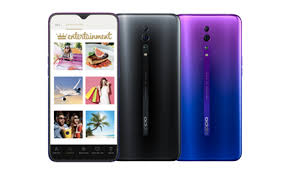oppo: (45, 9, 121, 166), (112, 10, 181, 164), (175, 8, 244, 162)
